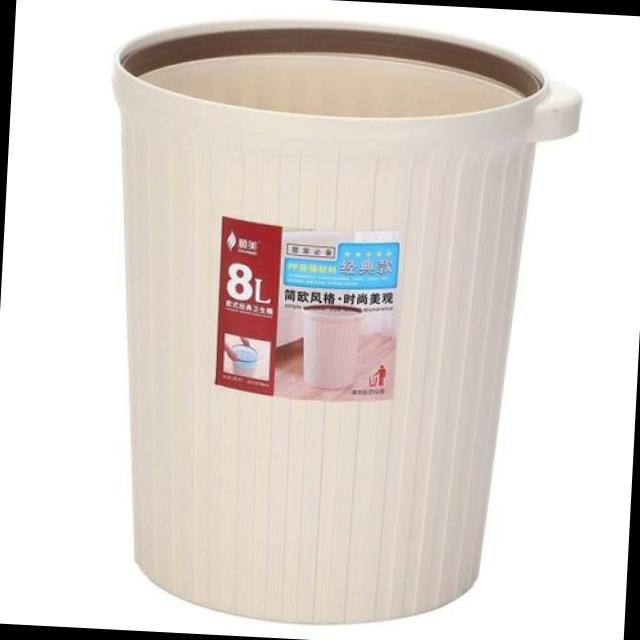dustbin: (78, 2, 593, 640)
